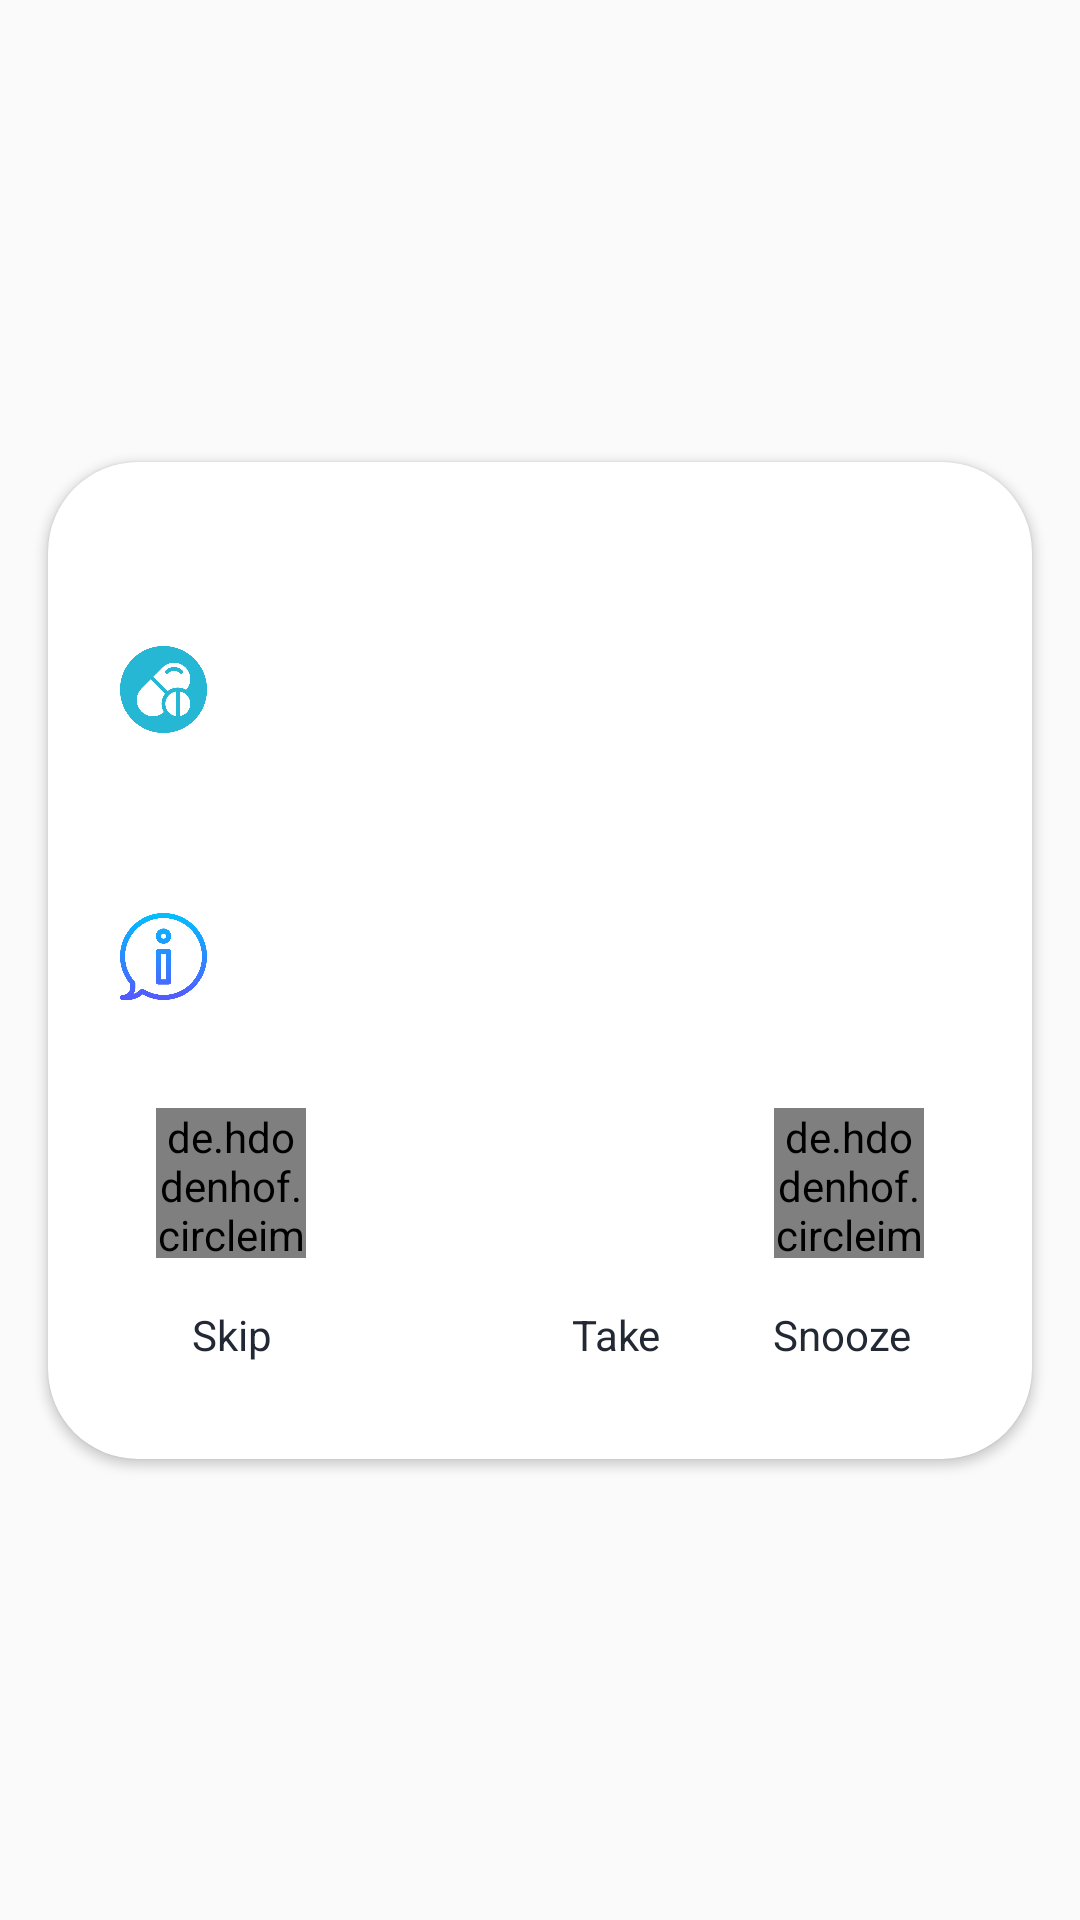

Where to tap for icons on this 1080px×1920px app screen, as (x=x, y=y):
information: (x=163, y=956)
medicine: (x=163, y=689)
